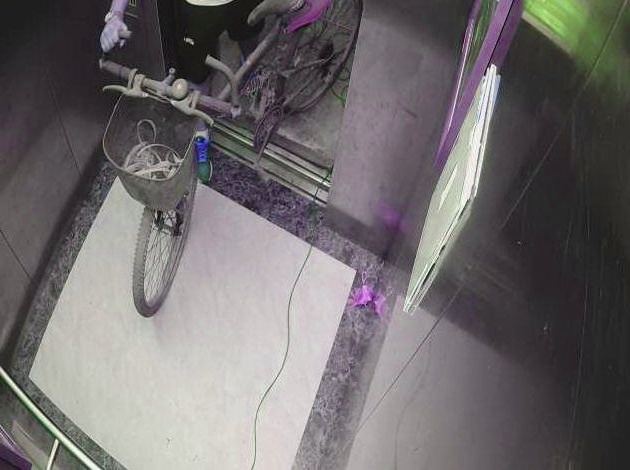bicycle: (52, 1, 387, 323)
